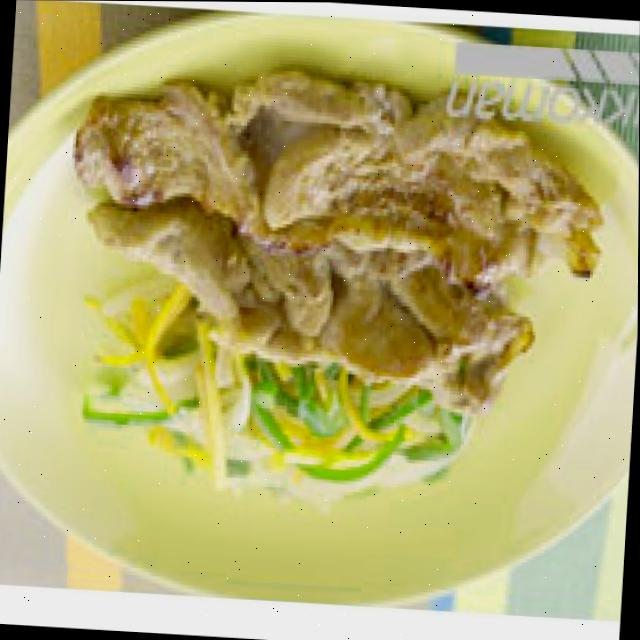猪肉菜式: (65, 98, 593, 447)
